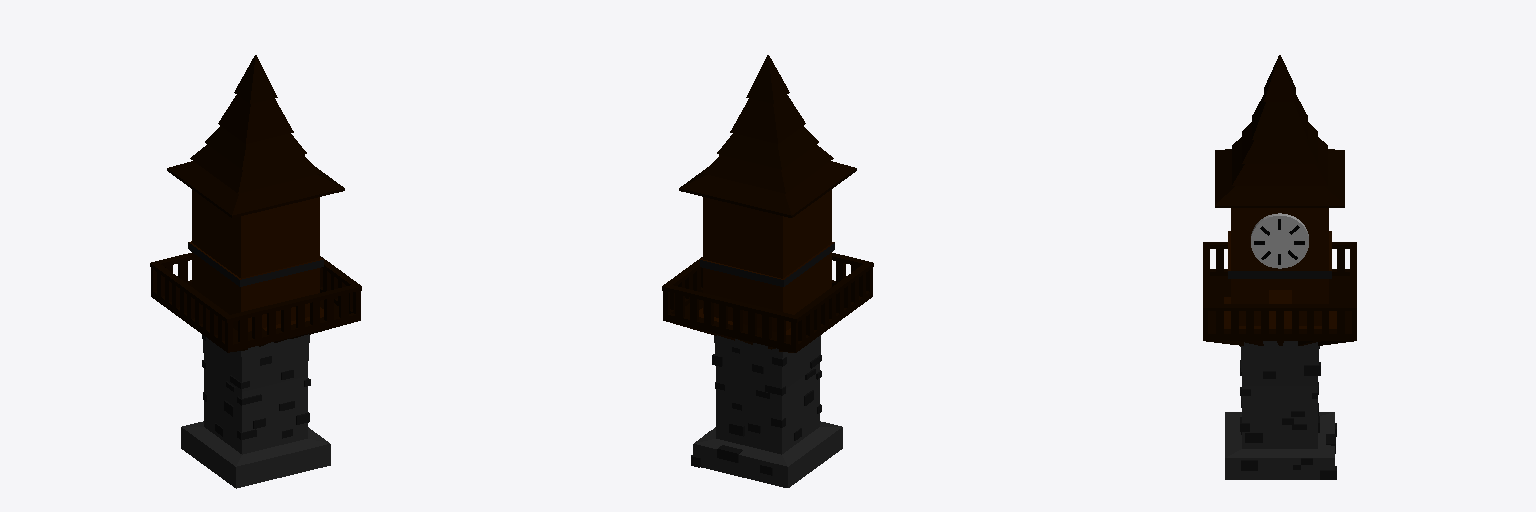
File: Tower.obj
3 renders of one model, left to right at view 1: azimuth 30°, elevation 25°; view 2: azimuth 150°, elevation 25°; view 3: azimuth 270°, elevation 25°, orthographic.
Visible parts, largest first — view 1: also_resz_Cube, Plane_Plane.001, emelet_Cube.002, keret_Cube.001, Cube.043_Cube.048, felso:keret_Cube.011; view 2: also_resz_Cube, Plane_Plane.001, emelet_Cube.002, keret_Cube.001, Cube.043_Cube.048, felso:keret_Cube.011; view 3: Plane_Plane.001, also_resz_Cube, keret_Cube.001, emelet_Cube.002, Cylinder, Cube.043_Cube.048, felso:keret_Cube.011.
Boxes of the visible parts, box(x1,y1,x2,y2) form: also_resz_Cube: box(181, 334, 330, 488); Plane_Plane.001: box(167, 55, 344, 217); emelet_Cube.002: box(189, 190, 323, 331); keret_Cube.001: box(150, 253, 361, 352); Cube.043_Cube.048: box(202, 335, 310, 439); felso:keret_Cube.011: box(188, 242, 323, 286); also_resz_Cube: box(693, 335, 842, 487); Plane_Plane.001: box(679, 55, 856, 217); emelet_Cube.002: box(699, 190, 834, 334); keret_Cube.001: box(662, 253, 873, 352); Cube.043_Cube.048: box(691, 347, 821, 475); felso:keret_Cube.011: box(700, 243, 834, 286); Plane_Plane.001: box(1215, 55, 1344, 207); also_resz_Cube: box(1225, 341, 1334, 479); keret_Cube.001: box(1203, 242, 1356, 345); emelet_Cube.002: box(1224, 208, 1336, 328); Cylinder: box(1251, 213, 1308, 268); Cube.043_Cube.048: box(1240, 347, 1336, 479); felso:keret_Cube.011: box(1228, 271, 1331, 278).
Size of the model in its own units: 2.85 by 8.1 by 2.83.